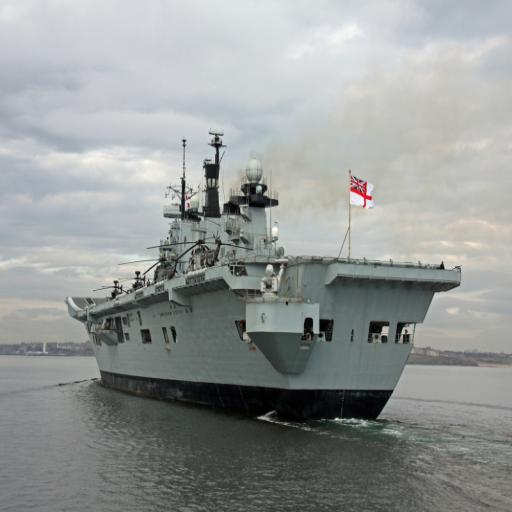Portanaves: (62, 128, 465, 432)
